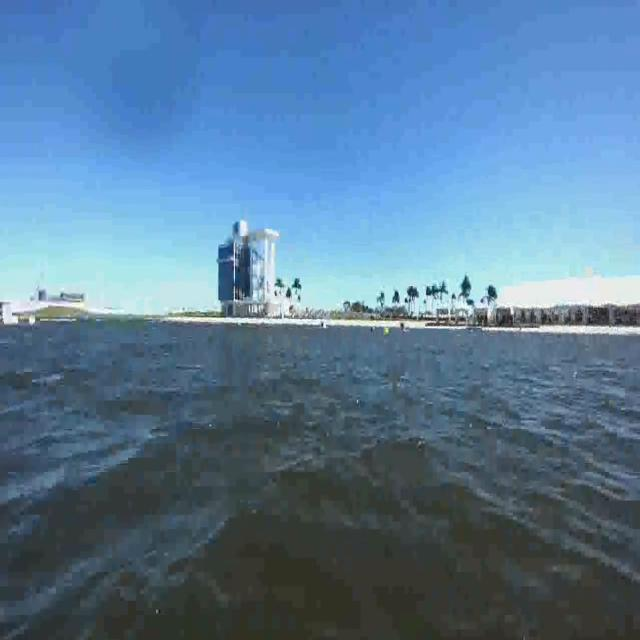yellow-buoy: (384, 326, 391, 336)
